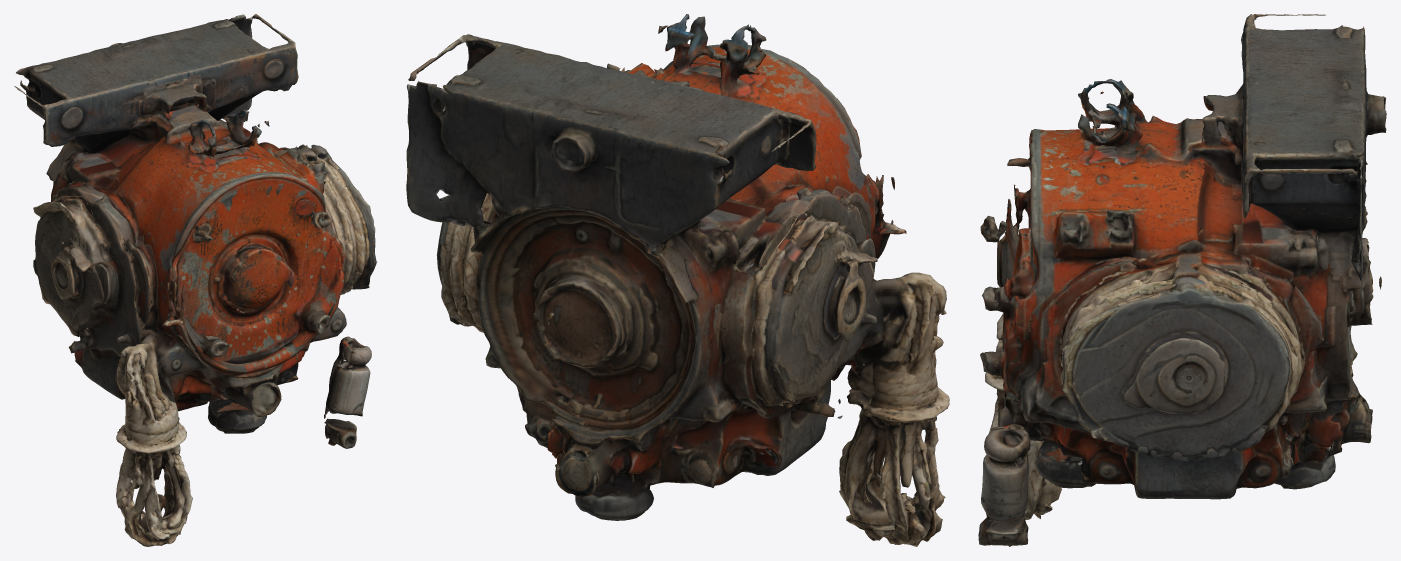
File: EscapeDescender.glb
3 views of the same model, side by side, from view 1: azimuth 30°, elevation 25°; view 2: azimuth 150°, elevation 25°; view 3: azimuth 270°, elevation 25° (orthographic). The views are drawn at different scales.
Parts seen in each view (by area): view 1: texture_mapping; view 2: texture_mapping; view 3: texture_mapping.
Boxes of the visible parts, left/top/right/bottom form: texture_mapping: left=14, top=14, right=376, bottom=546; texture_mapping: left=406, top=14, right=949, bottom=546; texture_mapping: left=978, top=14, right=1386, bottom=546.
Size of the model in its own units: 0.7491 by 0.9764 by 0.7308.
1 material, 1 textured.
